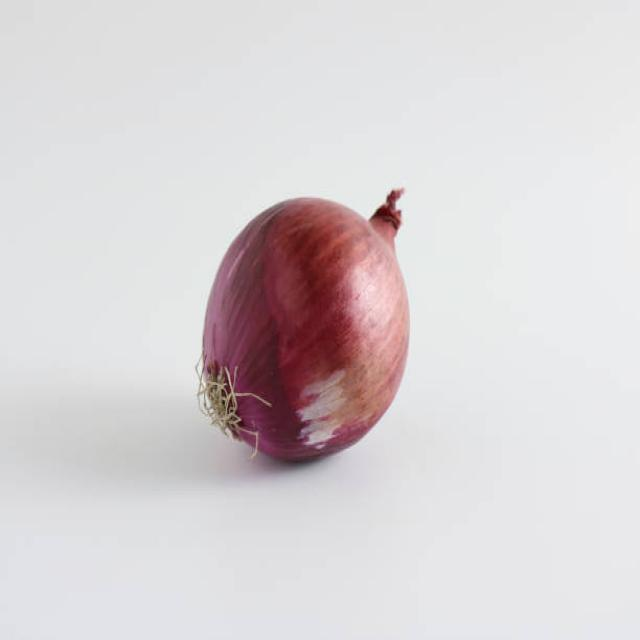onion: (190, 176, 414, 464)
